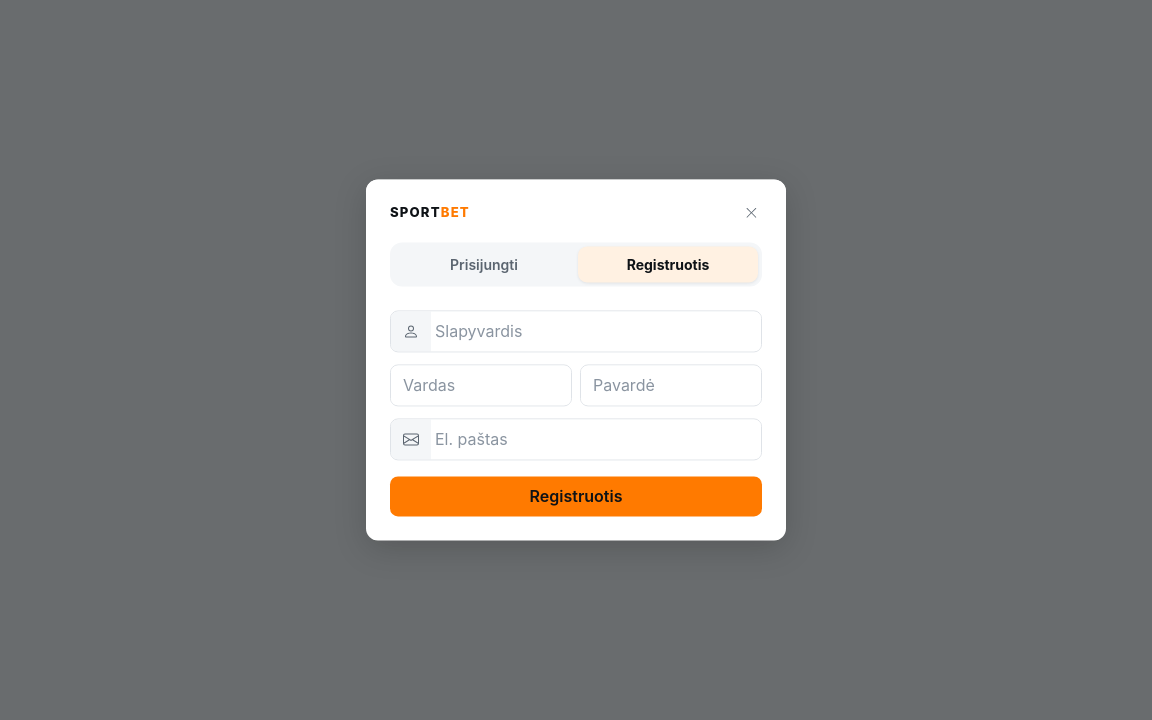
the tabs and the register form › shows each refusal under its field on the Registruotis tab, the answers kept (Q2)
Type "naujoke" into the field with placeholder "Slapyvardis". click: (596, 332)
box: [431,312,761,352]
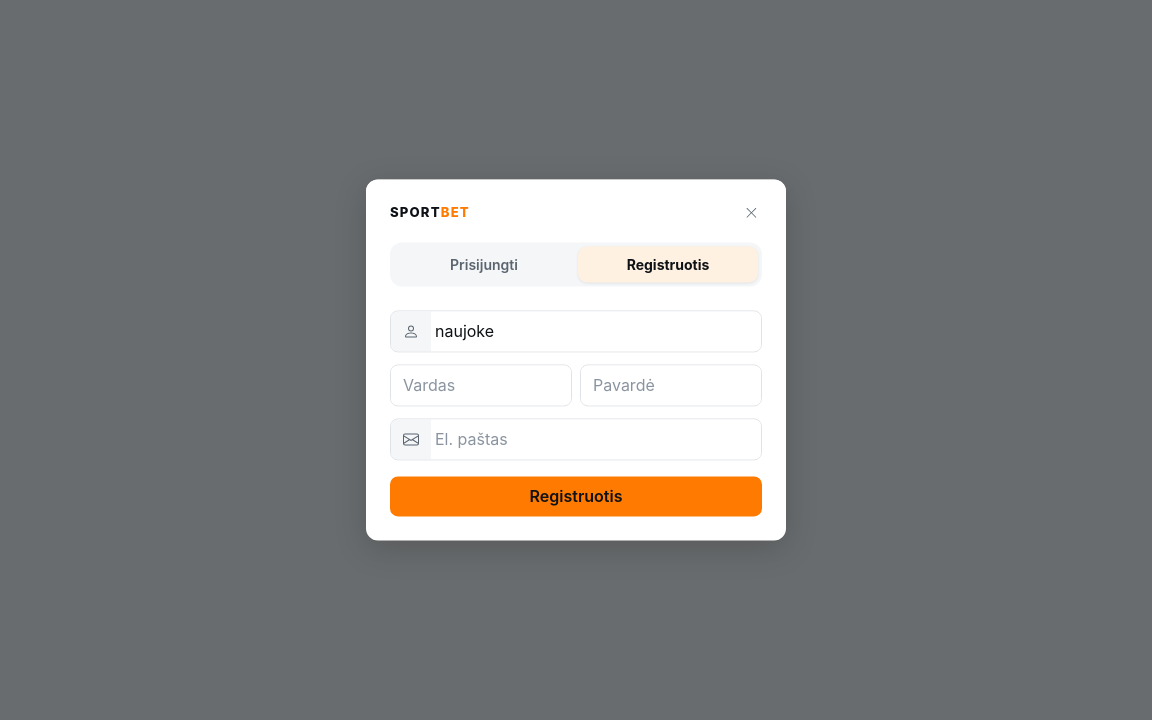
Type "Rūta" into the field with placeholder "Vardas". click: (481, 386)
box: [391,366,571,406]
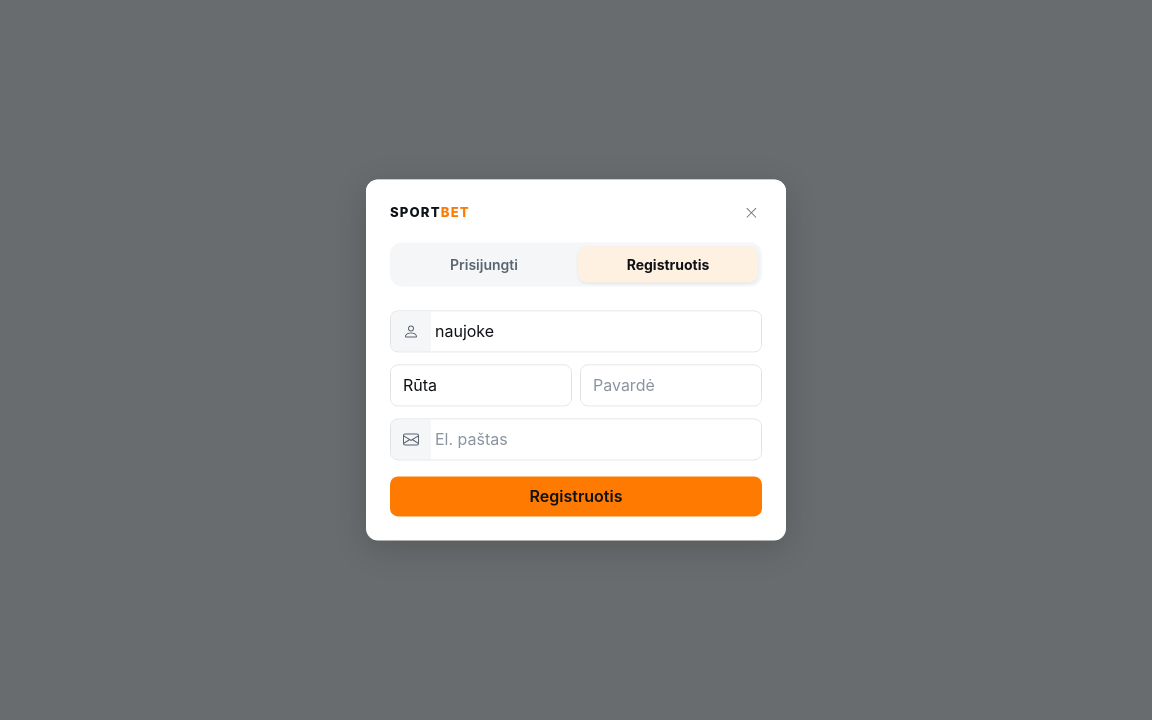
Type "ruta@example.lt" into the field with placeholder "El. paštas". click: (596, 440)
box: [431,420,761,460]
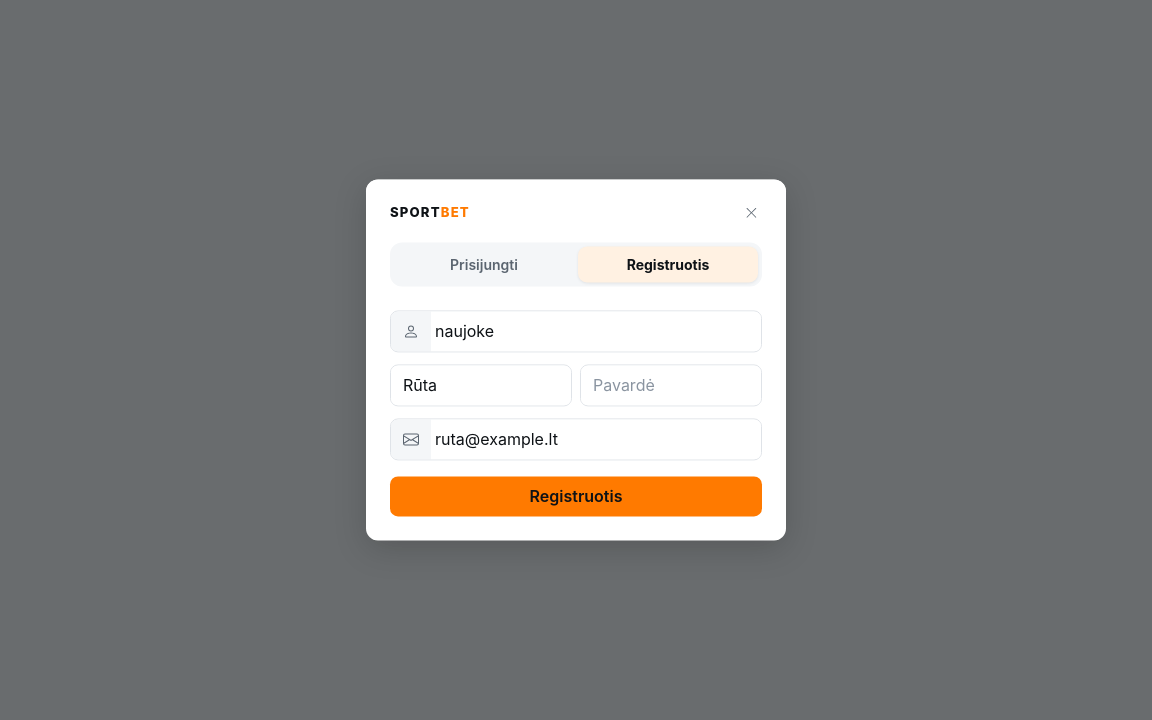
Click the button "Registruotis". click: (576, 497)
box: [390,477,762,517]
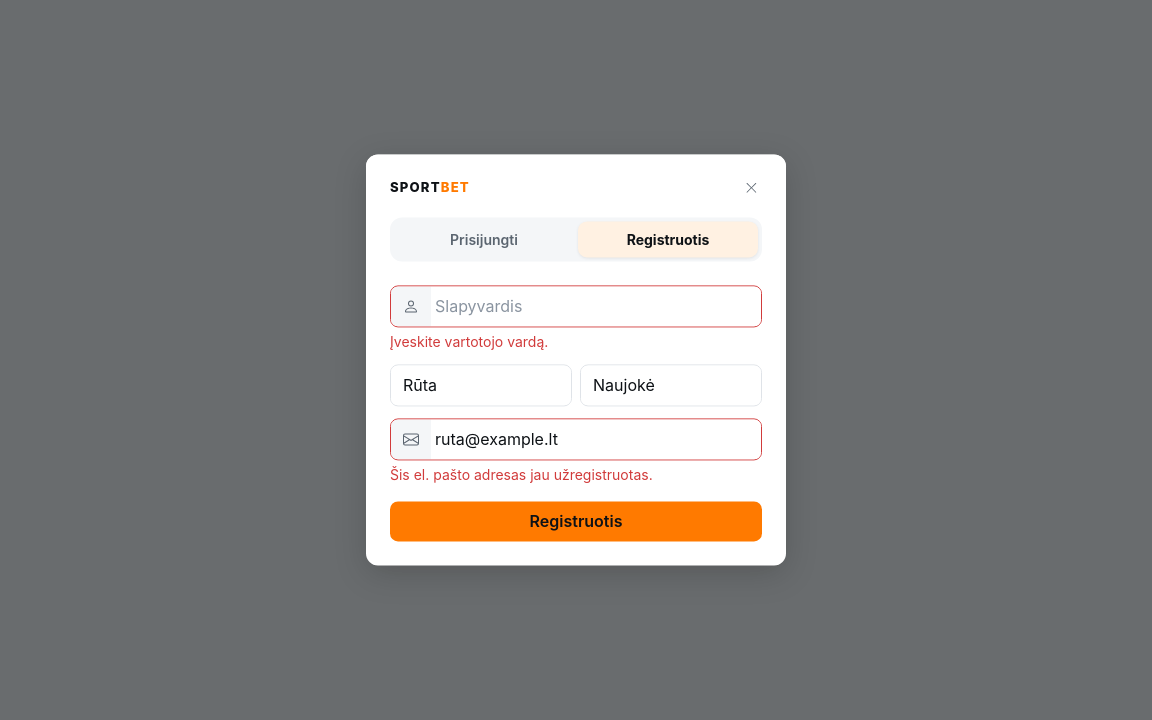
Expected: the text "Įveskite vartotojo vardą." is shown, [390,334,548,351]
Expected: the text "Šis el. pašto adresas jau užregistruotas." is shown, [390,467,653,484]
Expected: the field with placeholder "Pavardė" holds "Naujokė", [581,366,761,406]
